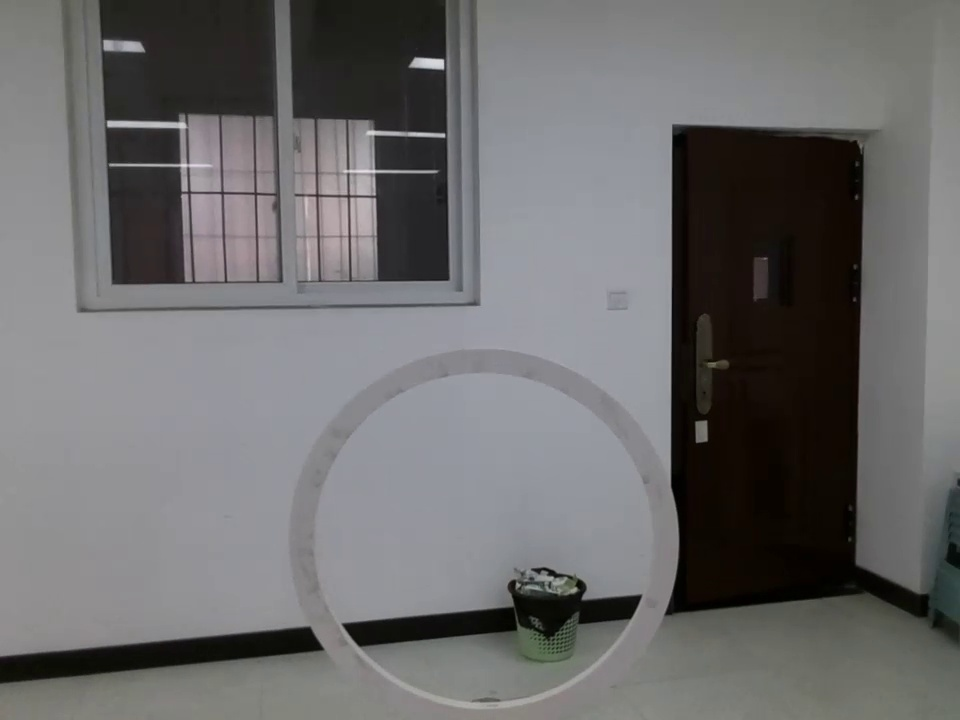quan: (303, 351, 677, 714)
